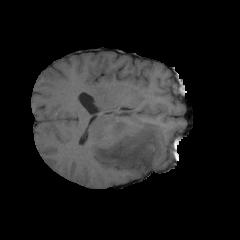glioma: (81, 116, 168, 176)
